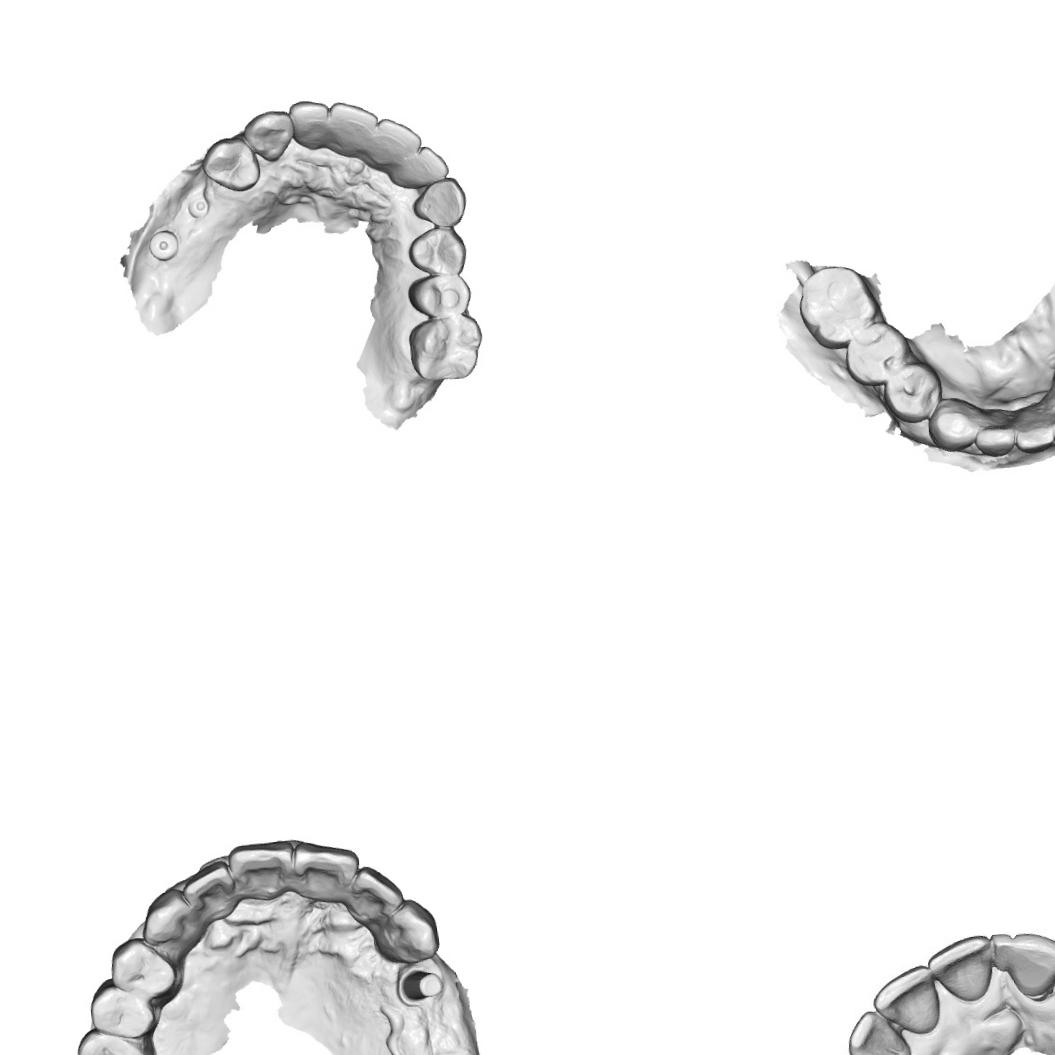abutment: (395, 964, 446, 1008)
canine: (372, 894, 442, 966), (136, 885, 201, 958), (408, 175, 470, 230), (925, 394, 981, 452), (241, 107, 296, 165)
implant: (146, 226, 181, 263), (185, 192, 210, 220)
incisor: (287, 834, 363, 902), (225, 835, 297, 902), (874, 965, 940, 1034), (928, 934, 993, 998), (346, 859, 408, 926), (178, 858, 237, 926), (328, 98, 382, 158), (1006, 928, 1055, 994), (845, 1012, 913, 1055), (370, 114, 424, 168), (286, 95, 334, 150), (402, 142, 451, 188), (1012, 407, 1054, 456), (974, 416, 1016, 460), (1046, 400, 1055, 446)
molar: (792, 260, 884, 352), (405, 312, 486, 384), (71, 1022, 161, 1055)
premolar: (105, 933, 179, 1004), (86, 973, 159, 1044), (842, 318, 909, 391), (881, 358, 947, 424), (199, 133, 263, 193), (404, 224, 471, 280), (404, 270, 475, 318)
